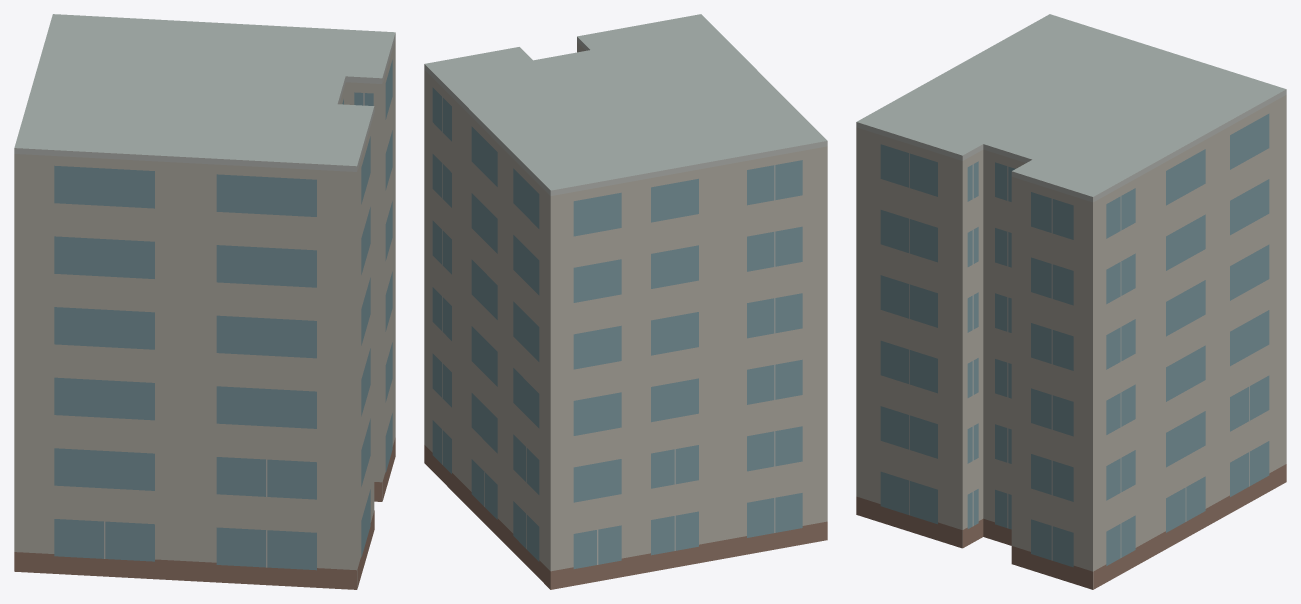
Rendered from survey-upis-32622098.glb.
The picture shows the model from 3 angles, left to right: view 1: azimuth 30°, elevation 25°; view 2: azimuth 150°, elevation 25°; view 3: azimuth 270°, elevation 25°; orthographic projection. The views are drawn at different scales.
Parts seen in each view (by area): view 1: survey-upis-32622098.tmp; view 2: survey-upis-32622098.tmp; view 3: survey-upis-32622098.tmp.
Part boxes in pixels (x1,y1,x2,y2): survey-upis-32622098.tmp: (14, 14, 395, 589); survey-upis-32622098.tmp: (424, 14, 827, 589); survey-upis-32622098.tmp: (856, 14, 1286, 589).
Size of the model in its own units: 17.65 by 17.65 by 17.53.
